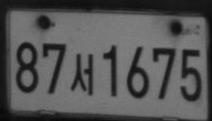1: (99, 44, 123, 96)
5: (180, 48, 202, 103)
6: (125, 45, 150, 99)
7: (42, 42, 67, 94), (153, 46, 176, 101)
8: (14, 40, 39, 93)
서: (69, 52, 93, 95)
